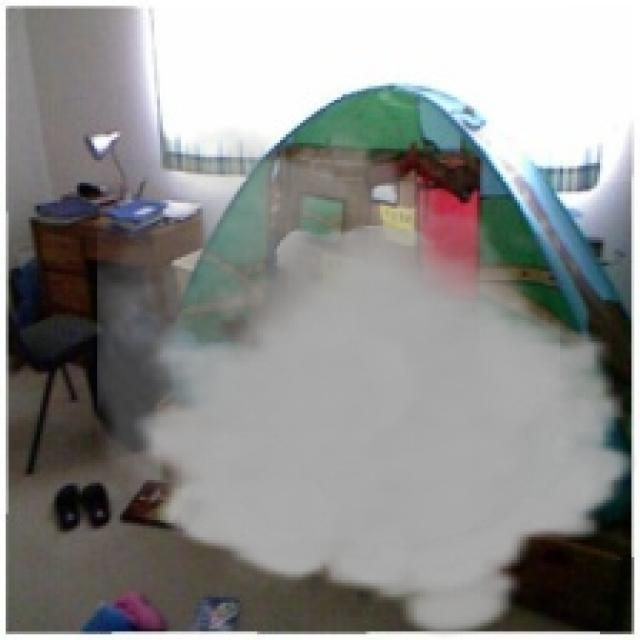smoke: (97, 111, 639, 638)
